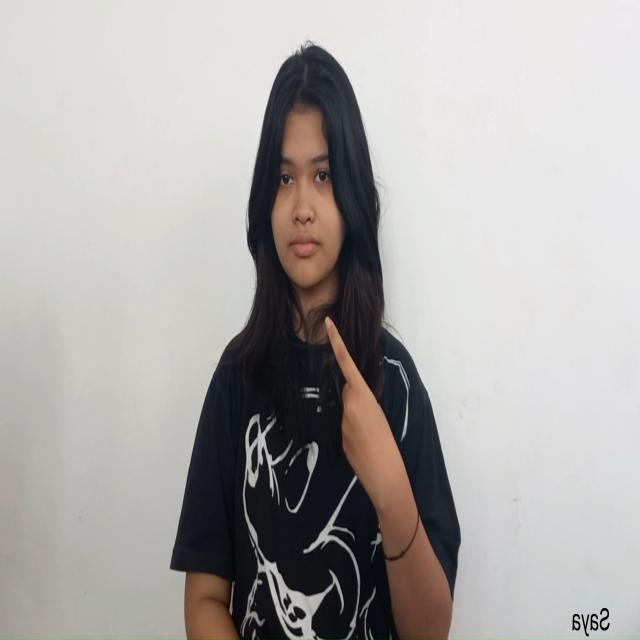Saya -BISINDO-: (322, 311, 406, 544)
